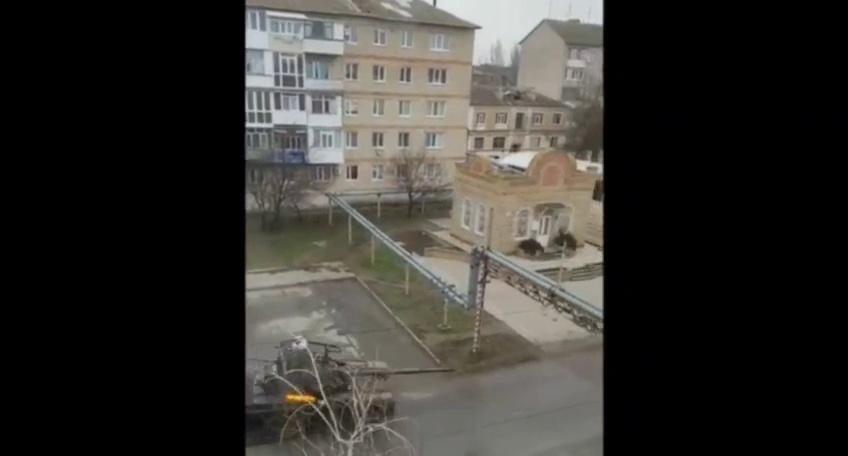tank: (246, 336, 456, 436)
